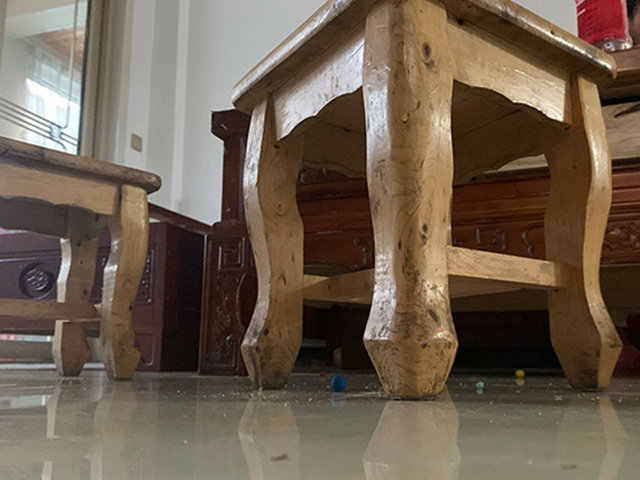stool: (229, 1, 624, 400), (1, 137, 163, 382)
